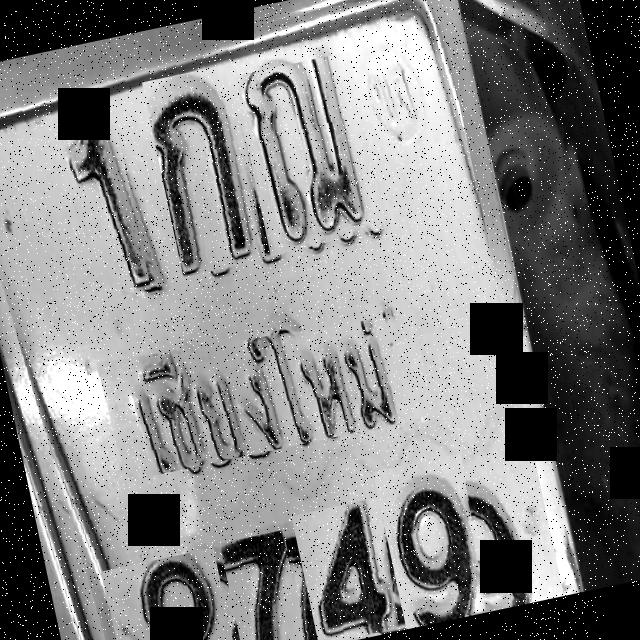letters: (232, 51, 386, 256), (142, 62, 276, 277), (372, 453, 494, 629), (57, 118, 151, 302), (291, 496, 407, 640), (100, 547, 237, 640), (219, 529, 308, 640)
license-plate: (0, 0, 564, 640)
province: (96, 296, 434, 482)
